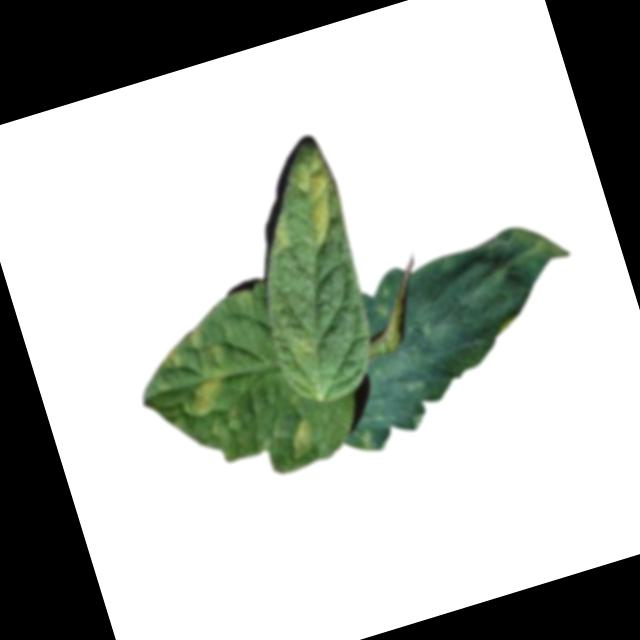Leaf_Mold: (302, 214, 611, 456), (281, 152, 351, 251), (183, 373, 233, 419), (286, 413, 327, 461)
